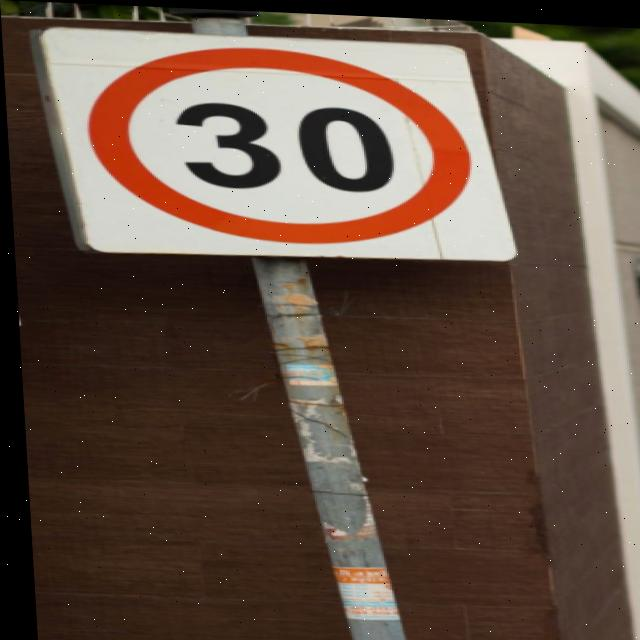Speed limit 30: (69, 38, 495, 254)
